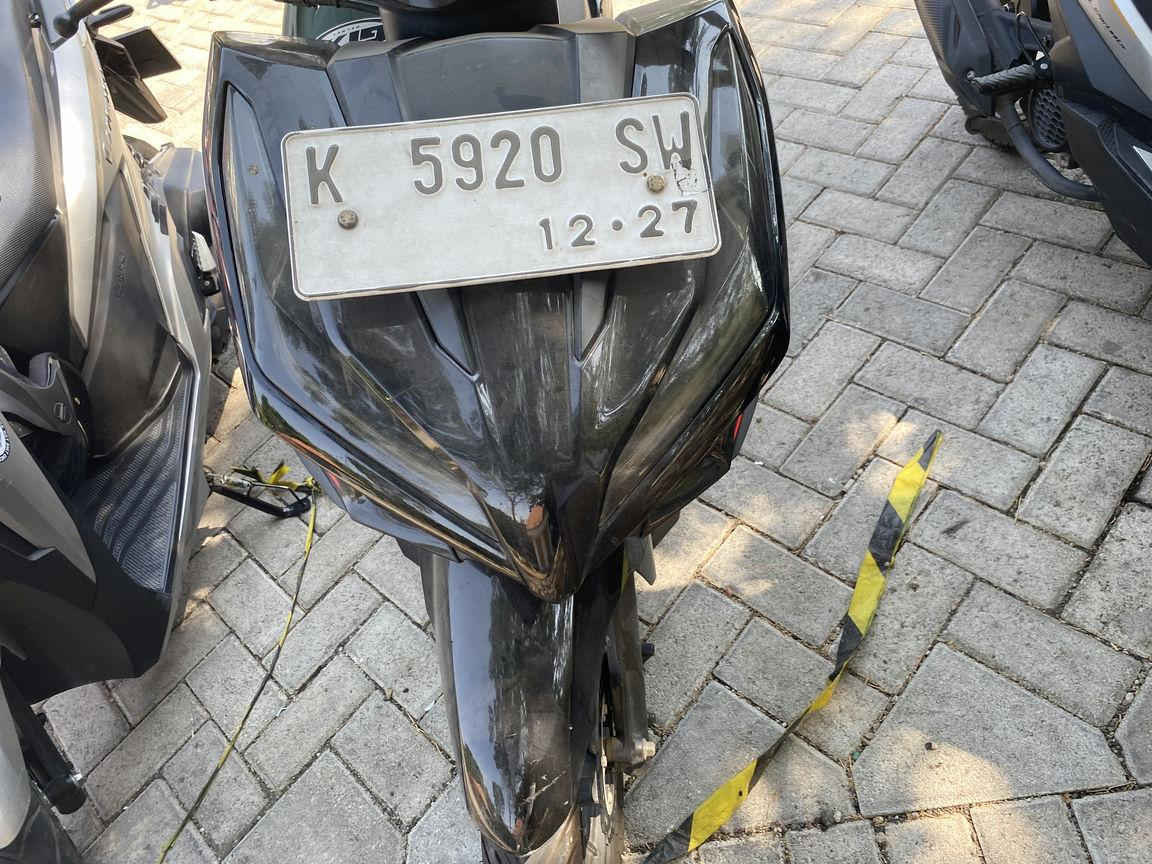plat: (281, 94, 720, 299)
